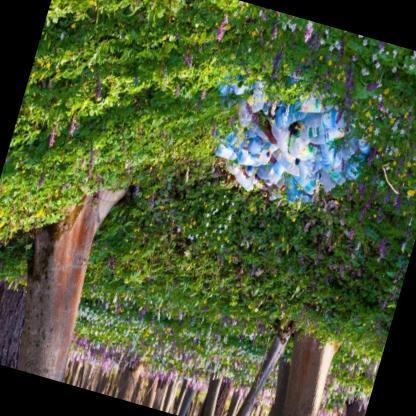Garbage: (192, 68, 336, 210), (226, 90, 345, 188), (254, 92, 367, 190)
